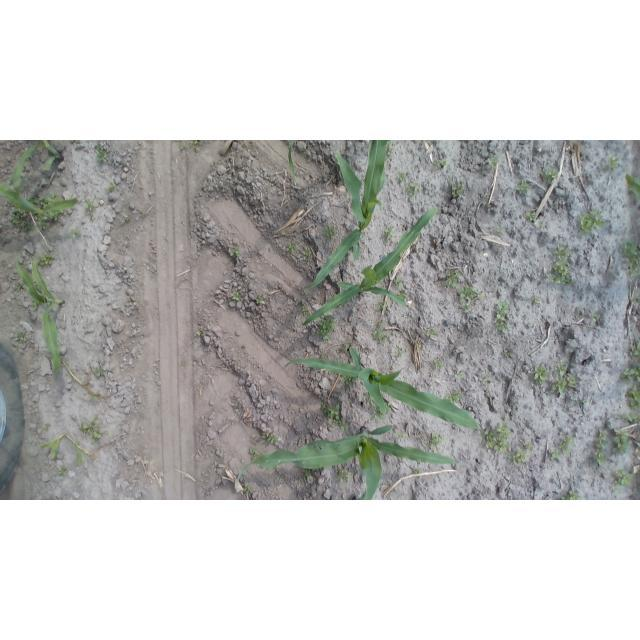Maize: (286, 343, 486, 444), (237, 425, 459, 500), (302, 211, 441, 330), (304, 145, 391, 292), (18, 254, 67, 378), (1, 151, 78, 221), (5, 141, 71, 204), (287, 140, 301, 186), (625, 174, 639, 201)
Weeds: (545, 245, 576, 287), (483, 422, 511, 452), (621, 239, 640, 277), (77, 416, 103, 443), (578, 209, 604, 234), (11, 211, 34, 233), (495, 300, 510, 332), (613, 469, 634, 491), (317, 317, 337, 340), (611, 430, 629, 455), (324, 410, 346, 429), (624, 173, 638, 201), (511, 443, 532, 461), (508, 447, 528, 464), (443, 269, 461, 287), (322, 404, 342, 420), (533, 364, 549, 384), (94, 141, 108, 163), (515, 179, 532, 197), (541, 168, 559, 185), (559, 434, 574, 454), (627, 385, 639, 410), (596, 429, 609, 451), (553, 375, 568, 394), (84, 198, 96, 221), (459, 284, 476, 300), (622, 366, 639, 382), (429, 433, 446, 449), (405, 181, 420, 198), (372, 405, 388, 420), (594, 448, 607, 466), (604, 157, 619, 172), (337, 468, 350, 485), (374, 325, 387, 341), (39, 254, 54, 267), (264, 432, 279, 445), (446, 391, 461, 404), (324, 224, 337, 238), (383, 227, 396, 241), (560, 491, 580, 500), (452, 183, 464, 198), (518, 442, 533, 454), (301, 245, 312, 261), (555, 362, 568, 375), (14, 332, 26, 344), (524, 211, 537, 222), (626, 412, 639, 423), (567, 375, 577, 389), (491, 155, 500, 170), (424, 328, 436, 339), (434, 159, 447, 169), (94, 367, 105, 378), (375, 301, 387, 311), (340, 376, 353, 385), (186, 140, 200, 148), (630, 343, 638, 357), (231, 291, 242, 301), (395, 277, 406, 287), (397, 171, 408, 181), (549, 449, 559, 460), (242, 484, 252, 495), (287, 242, 296, 254), (57, 465, 67, 475), (256, 295, 266, 305), (232, 247, 241, 258), (397, 290, 408, 299), (300, 305, 309, 316), (386, 142, 393, 156), (592, 312, 601, 322), (107, 181, 116, 191), (434, 358, 443, 368), (462, 302, 471, 312), (71, 229, 80, 239), (305, 469, 312, 481), (498, 226, 507, 235), (50, 192, 59, 201), (89, 392, 100, 399), (532, 296, 541, 304), (31, 301, 39, 310), (250, 449, 259, 457), (395, 433, 405, 440), (456, 370, 464, 378), (43, 425, 52, 432), (397, 349, 404, 358), (505, 350, 512, 358), (478, 289, 485, 297), (197, 330, 204, 337), (341, 343, 347, 350), (180, 360, 186, 367)
